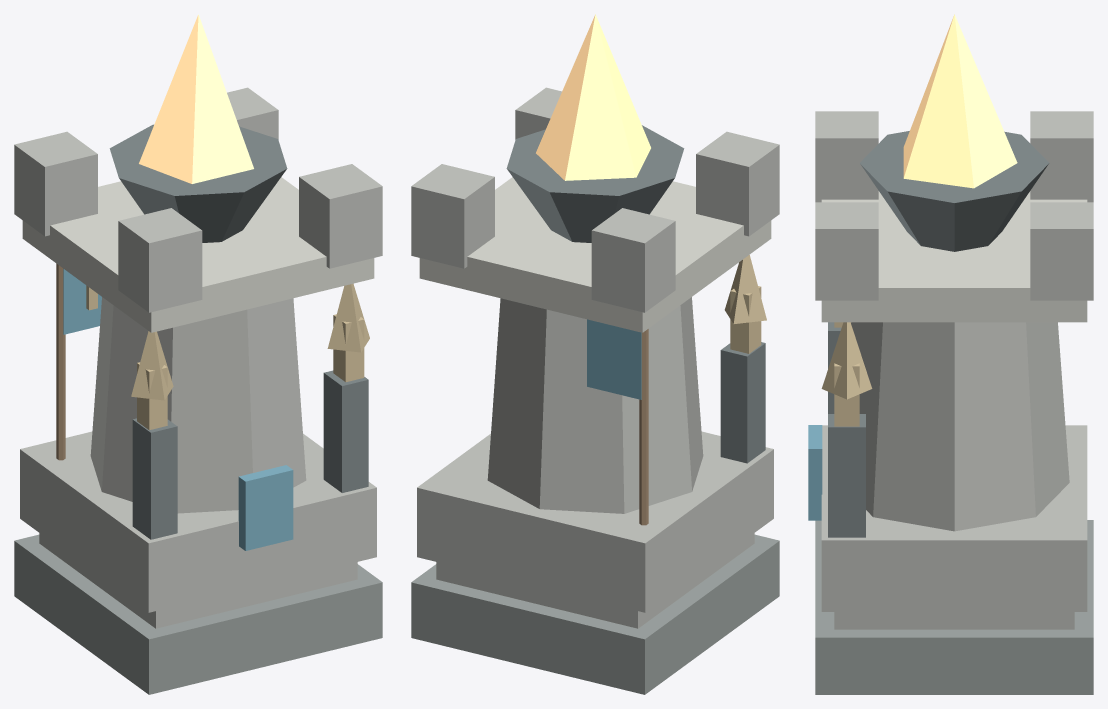
Rendered from human_fire_t5.glb.
3 renders of one model, left to right at view 1: azimuth 30°, elevation 25°; view 2: azimuth 150°, elevation 25°; view 3: azimuth 270°, elevation 25°, orthographic. The views are drawn at different scales.
Parts seen in each view (by area): view 1: human_fire_t5_MAT_stone, human_fire_t5_MAT_dark, human_fire_t5_MAT_light, human_fire_t5_MAT_iron, human_fire_t5_MAT_fire, human_fire_t5_MAT_blue, human_fire_t5_MAT_gold, human_fire_t5_MAT_wood; view 2: human_fire_t5_MAT_stone, human_fire_t5_MAT_dark, human_fire_t5_MAT_light, human_fire_t5_MAT_iron, human_fire_t5_MAT_fire, human_fire_t5_MAT_blue, human_fire_t5_MAT_gold, human_fire_t5_MAT_wood; view 3: human_fire_t5_MAT_stone, human_fire_t5_MAT_dark, human_fire_t5_MAT_light, human_fire_t5_MAT_iron, human_fire_t5_MAT_fire, human_fire_t5_MAT_gold, human_fire_t5_MAT_blue.
Boxes of the visible parts, <box> form: human_fire_t5_MAT_stone: <box>14,87,382,628</box>; human_fire_t5_MAT_dark: <box>14,534,382,694</box>; human_fire_t5_MAT_light: <box>22,177,374,332</box>; human_fire_t5_MAT_iron: <box>109,124,368,539</box>; human_fire_t5_MAT_fire: <box>139,14,253,183</box>; human_fire_t5_MAT_blue: <box>63,269,293,550</box>; human_fire_t5_MAT_gold: <box>86,283,369,430</box>; human_fire_t5_MAT_wood: <box>56,263,65,460</box>; human_fire_t5_MAT_stone: <box>411,87,779,628</box>; human_fire_t5_MAT_dark: <box>411,534,779,694</box>; human_fire_t5_MAT_light: <box>419,177,771,332</box>; human_fire_t5_MAT_iron: <box>506,125,765,463</box>; human_fire_t5_MAT_fire: <box>536,14,650,180</box>; human_fire_t5_MAT_blue: <box>587,319,641,399</box>; human_fire_t5_MAT_gold: <box>724,255,766,353</box>; human_fire_t5_MAT_wood: <box>639,329,648,525</box>; human_fire_t5_MAT_stone: <box>815,111,1093,629</box>; human_fire_t5_MAT_dark: <box>815,520,1093,694</box>; human_fire_t5_MAT_light: <box>821,191,1087,322</box>; human_fire_t5_MAT_iron: <box>828,131,1049,537</box>; human_fire_t5_MAT_fire: <box>903,14,1017,188</box>; human_fire_t5_MAT_gold: <box>821,322,872,426</box>; human_fire_t5_MAT_blue: <box>808,425,822,520</box>.
Size of the model in its own units: 0.9 by 2.17 by 0.9025.
